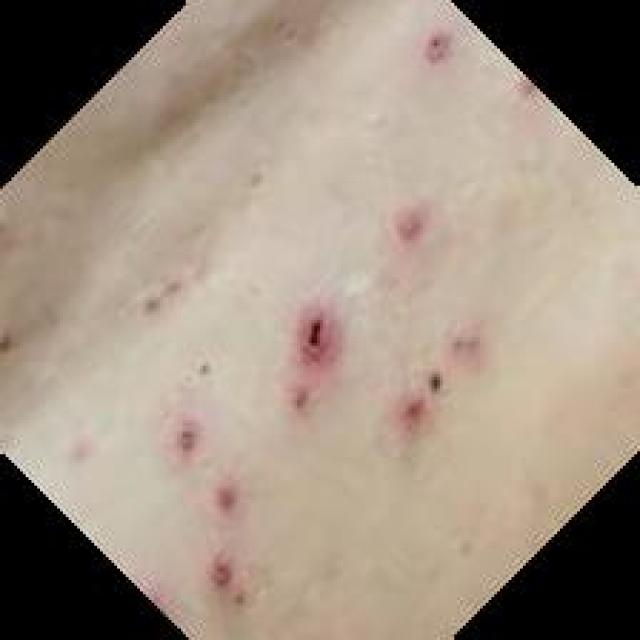others: (75, 104, 562, 543)
